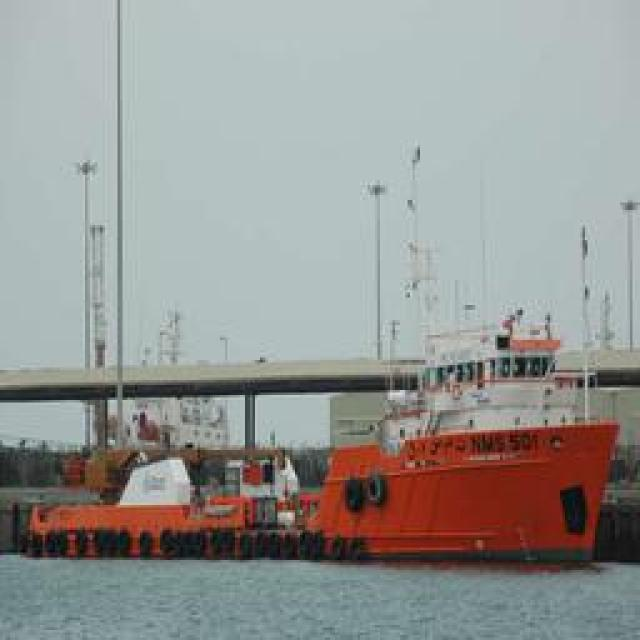CIV_Ship: (144, 405, 602, 575)
